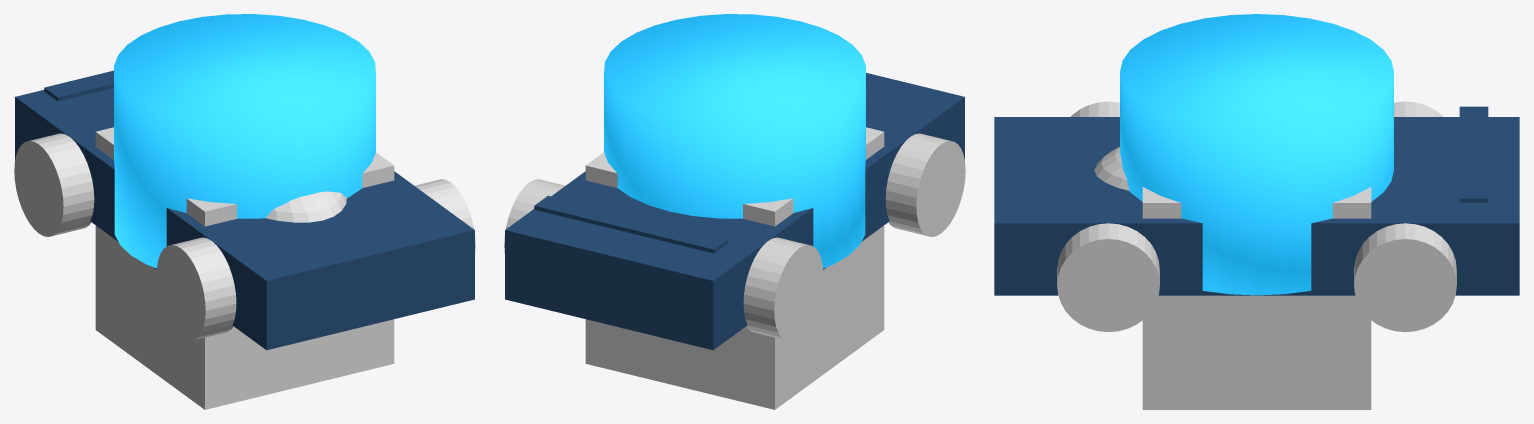
The model's file is Futuristic_hypercar_1794637967.glb.
The picture shows the model from 3 angles, left to right: view 1: azimuth 30°, elevation 25°; view 2: azimuth 150°, elevation 25°; view 3: azimuth 270°, elevation 25°; orthographic projection. The views are drawn at different scales.
Visible parts, largest first — view 1: MechHousing, Hypercar_Chassis, Cube, Wheel_1, Wheel_3, Hypercar_Canopy, Wheel_4, Hypercar_Wing; view 2: MechHousing, Hypercar_Chassis, Cube, Wheel_3, Wheel_1, Hypercar_Wing, Wheel_2; view 3: MechHousing, Hypercar_Chassis, Cube, Wheel_2, Wheel_4, Hypercar_Wing, Hypercar_Canopy, Wheel_1, Wheel_3.
Part boxes in pixels (x1,y1,x2,y2): MechHousing: [114, 14, 375, 268]; Hypercar_Chassis: [15, 88, 474, 350]; Cube: [95, 127, 394, 409]; Wheel_1: [14, 133, 94, 236]; Wheel_3: [156, 237, 236, 340]; Hypercar_Canopy: [265, 191, 346, 222]; Wheel_4: [414, 179, 475, 253]; Hypercar_Wing: [44, 70, 113, 101]; MechHousing: [604, 14, 865, 268]; Hypercar_Chassis: [505, 73, 964, 350]; Cube: [585, 127, 884, 409]; Wheel_3: [885, 133, 965, 236]; Wheel_1: [743, 237, 823, 340]; Hypercar_Wing: [534, 196, 727, 253]; Wheel_2: [504, 179, 565, 253]; MechHousing: [1120, 14, 1393, 295]; Hypercar_Chassis: [994, 117, 1519, 295]; Cube: [1142, 187, 1371, 409]; Wheel_2: [1354, 223, 1456, 331]; Wheel_4: [1057, 223, 1159, 331]; Hypercar_Wing: [1459, 106, 1488, 202]; Hypercar_Canopy: [1094, 146, 1129, 190]; Wheel_1: [1394, 101, 1442, 116]; Wheel_3: [1071, 101, 1119, 116].
Size of the model in its own units: 2.85 by 2.8 by 4.6.
